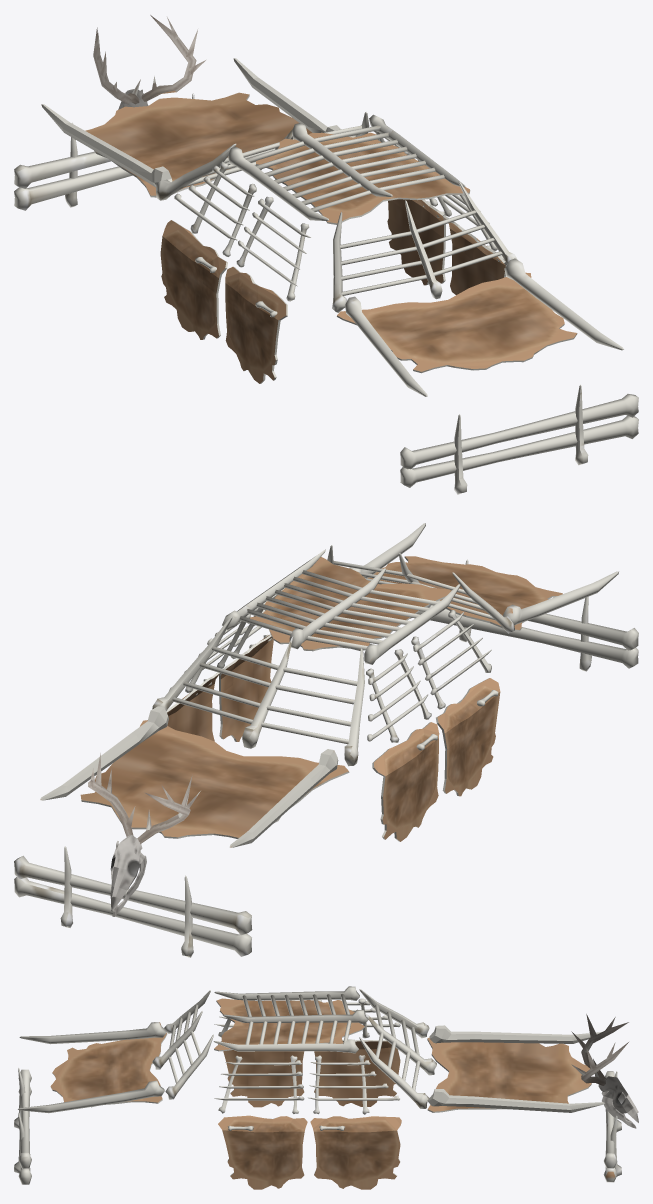
The model's file is Vehicles_CarNormal_Bone.fbx.
3 views of the same model, one above another, from view 1: azimuth 30°, elevation 25°; view 2: azimuth 150°, elevation 25°; view 3: azimuth 270°, elevation 25° (orthographic). The views are drawn at different scales.
Parts seen in each view (by area): view 1: normal_bone_trunk_armor, normal_bone_hood_armor, normal_bone_roofrack, normal_bone_bullbar_armor, normal_bone_front_left_door_armor, normal_bone_rear_windshield_armor, normal_bone_rear_left_door_armor, normal_bone_front_right_door_armor, normal_bone_rear_right_door_armor, normal_bone_windshield_armor, normal_bone_front_left_window_armor, normal_bone_rear_left_window_armor; view 2: normal_bone_hood_armor, normal_bone_roofrack, normal_bone_bullbar_armor, normal_bone_trunk_armor, normal_bone_windshield_armor, normal_bone_front_left_door_armor, normal_bone_rear_left_door_armor, normal_bone_rear_right_door_armor, normal_bone_rear_windshield_armor, normal_bone_front_left_window_armor, normal_bone_front_right_door_armor, normal_bone_rear_left_window_armor (+1 smaller); view 3: normal_bone_hood_armor, normal_bone_trunk_armor, normal_bone_roofrack, normal_bone_front_right_door_armor, normal_bone_rear_right_door_armor, normal_bone_front_left_door_armor, normal_bone_bullbar_armor, normal_bone_rear_left_door_armor, normal_bone_windshield_armor, normal_bone_rear_windshield_armor, normal_bone_rear_right_window_armor, normal_bone_front_right_window_armor (+1 smaller).
Part boxes in pixels (left/top/right/bottom): normal_bone_trunk_armor: left=337, top=258, right=638, bottom=494; normal_bone_hood_armor: left=41, top=58, right=340, bottom=197; normal_bone_roofrack: left=228, top=114, right=470, bottom=224; normal_bone_bullbar_armor: left=14, top=15, right=206, bottom=210; normal_bone_front_left_door_armor: left=160, top=220, right=227, bottom=339; normal_bone_rear_windshield_armor: left=332, top=181, right=517, bottom=312; normal_bone_rear_left_door_armor: left=225, top=266, right=287, bottom=383; normal_bone_front_right_door_armor: left=387, top=199, right=445, bottom=285; normal_bone_rear_right_door_armor: left=443, top=215, right=506, bottom=294; normal_bone_windshield_armor: left=156, top=112, right=369, bottom=200; normal_bone_front_left_window_armor: left=174, top=161, right=256, bottom=256; normal_bone_rear_left_window_armor: left=236, top=196, right=310, bottom=301; normal_bone_hood_armor: left=40, top=706, right=349, bottom=847; normal_bone_roofrack: left=222, top=549, right=460, bottom=664; normal_bone_bullbar_armor: left=14, top=753, right=252, bottom=957; normal_bone_trunk_armor: left=349, top=523, right=638, bottom=671; normal_bone_windshield_armor: left=152, top=616, right=364, bottom=766; normal_bone_front_left_door_armor: left=372, top=722, right=439, bottom=841; normal_bone_rear_left_door_armor: left=436, top=678, right=500, bottom=796; normal_bone_rear_right_door_armor: left=219, top=634, right=273, bottom=741; normal_bone_rear_windshield_armor: left=327, top=545, right=514, bottom=633; normal_bone_front_left_window_armor: left=366, top=649, right=431, bottom=742; normal_bone_front_right_door_armor: left=166, top=672, right=220, bottom=741; normal_bone_rear_left_window_armor: left=411, top=610, right=491, bottom=709; normal_bone_hood_armor: left=427, top=1025, right=604, bottom=1112; normal_bone_trunk_armor: left=14, top=1022, right=167, bottom=1184; normal_bone_roofrack: left=213, top=986, right=368, bottom=1053; normal_bone_front_right_door_armor: left=310, top=1116, right=401, bottom=1189; normal_bone_rear_right_door_armor: left=218, top=1115, right=307, bottom=1189; normal_bone_front_left_door_armor: left=314, top=1039, right=401, bottom=1106; normal_bone_bullbar_armor: left=571, top=1014, right=638, bottom=1182; normal_bone_rear_left_door_armor: left=218, top=1041, right=304, bottom=1107; normal_bone_windshield_armor: left=359, top=989, right=436, bottom=1108; normal_bone_rear_windshield_armor: left=152, top=990, right=213, bottom=1099; normal_bone_rear_right_window_armor: left=214, top=1055, right=304, bottom=1113; normal_bone_front_right_window_armor: left=308, top=1055, right=399, bottom=1114.
Size of the model in its own units: 0.9374 by 0.7184 by 2.81.
